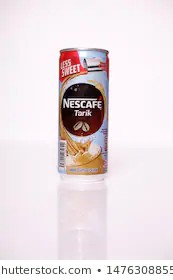nescafe-can: (55, 45, 113, 180)
